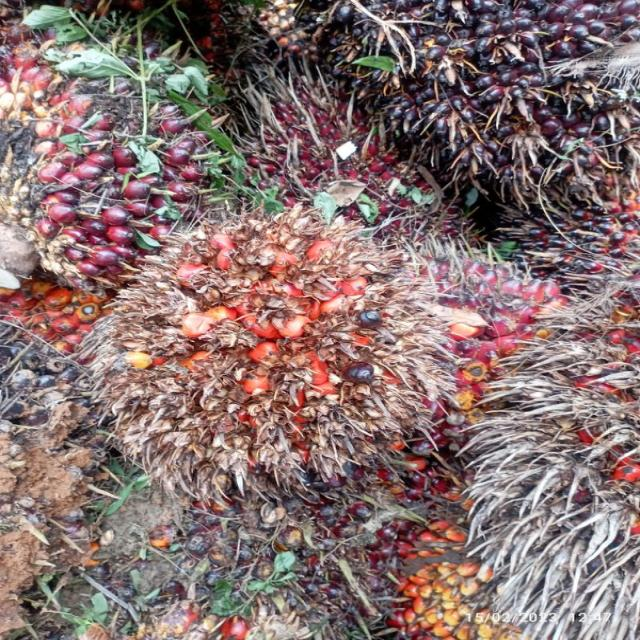fraksi 00: (321, 0, 640, 219)
fraksi 4: (81, 202, 471, 501)
